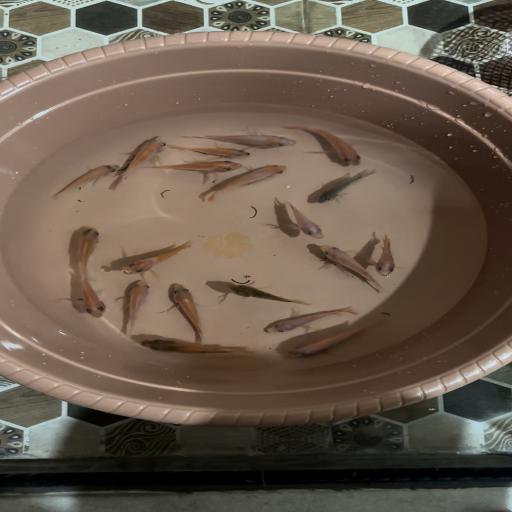nila: (279, 317, 389, 360), (314, 243, 389, 293), (107, 134, 171, 192), (286, 123, 367, 168), (205, 162, 289, 205), (257, 303, 361, 335), (120, 241, 196, 280), (47, 161, 120, 201), (135, 337, 260, 360), (166, 283, 211, 345), (312, 167, 380, 208), (273, 199, 329, 241), (62, 275, 111, 321), (118, 278, 154, 340), (72, 226, 113, 278), (189, 130, 303, 148), (220, 284, 312, 306), (367, 230, 404, 282), (168, 142, 258, 158), (140, 160, 247, 173)
